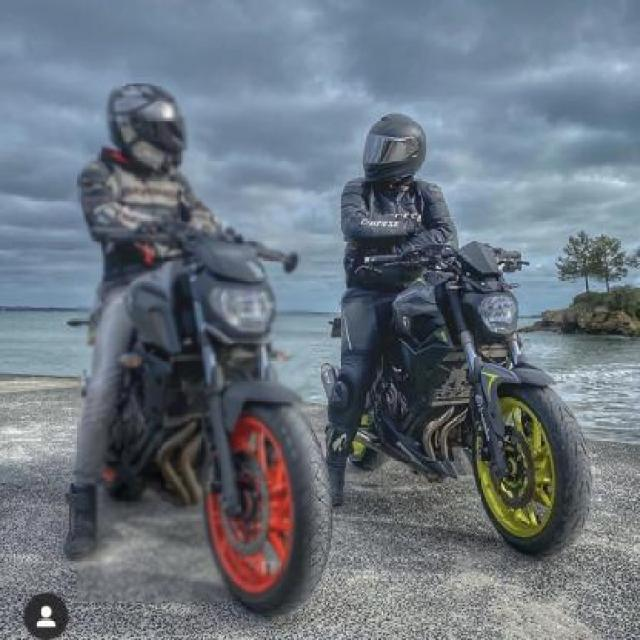helmet: (97, 74, 202, 184), (361, 105, 429, 188)
motorcycle: (34, 71, 349, 624), (313, 101, 612, 564)
